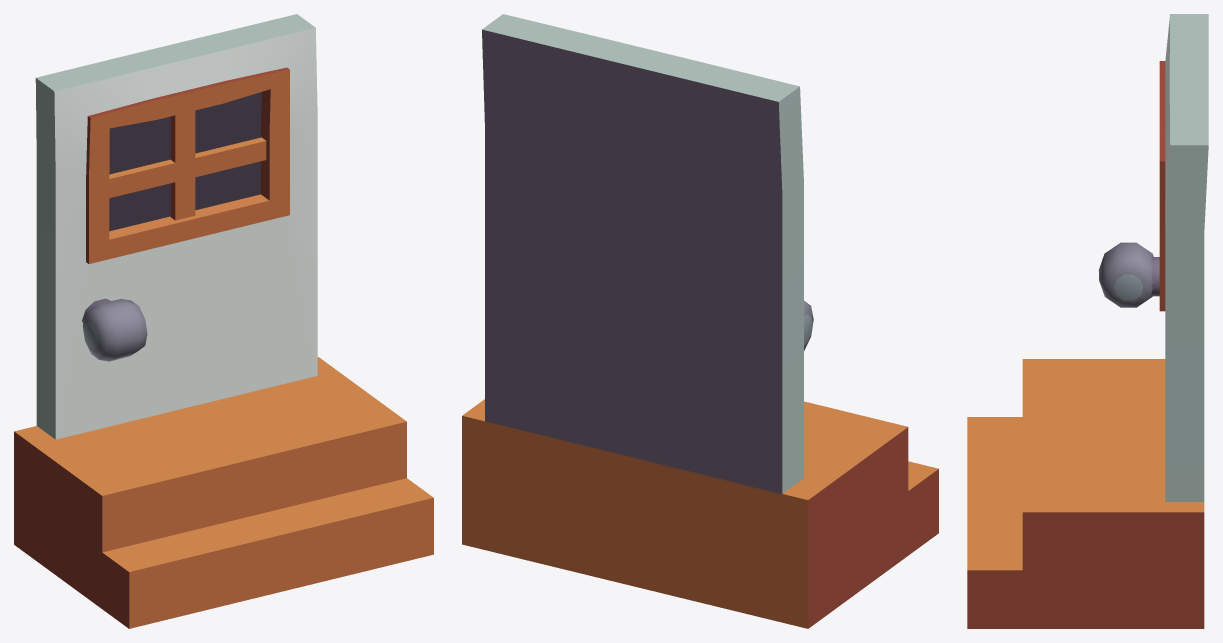
The model's file is Door02_White_Wood.glb.
The picture shows the model from 3 angles, left to right: view 1: azimuth 30°, elevation 25°; view 2: azimuth 150°, elevation 25°; view 3: azimuth 270°, elevation 25°; orthographic projection. The views are drawn at different scales.
Visible parts, largest first — view 1: Door02_White_Wood; view 2: Door02_White_Wood; view 3: Door02_White_Wood.
Boxes of the visible parts, left/top/right/bottom form: Door02_White_Wood: left=14, top=14, right=433, bottom=628; Door02_White_Wood: left=462, top=14, right=938, bottom=628; Door02_White_Wood: left=967, top=14, right=1208, bottom=628.
Size of the model in its own units: 0.9795 by 1.41 by 0.6527.
Materials: 1 (1 with a texture image).
